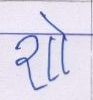e_matra: (39, 11, 66, 33)
